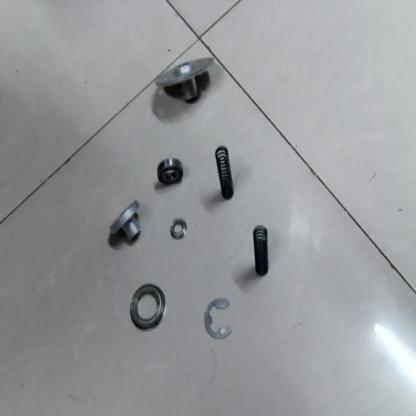FOD: (154, 52, 220, 111), (127, 282, 168, 336), (105, 198, 146, 248), (201, 296, 237, 344), (212, 143, 236, 205), (249, 223, 274, 282), (153, 155, 186, 191), (168, 215, 188, 243)
